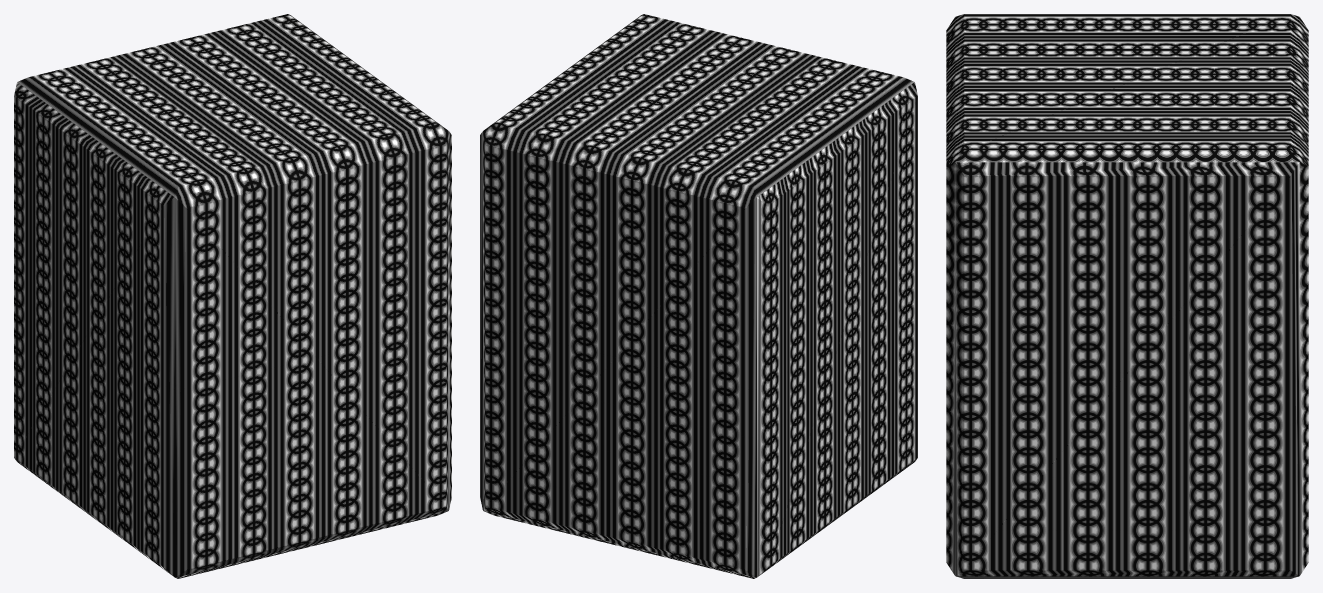
Rendered from Platform1Room2Tutorial2.FBX.
The picture shows the model from 3 angles, left to right: view 1: azimuth 30°, elevation 25°; view 2: azimuth 150°, elevation 25°; view 3: azimuth 270°, elevation 25°; orthographic projection. The views are drawn at different scales.
Visible parts, largest first — view 1: Platform1Room2Tutorial2; view 2: Platform1Room2Tutorial2; view 3: Platform1Room2Tutorial2.
Part boxes in pixels (bbox=[...]): Platform1Room2Tutorial2: bbox=[14, 14, 451, 578]; Platform1Room2Tutorial2: bbox=[480, 14, 917, 578]; Platform1Room2Tutorial2: bbox=[946, 14, 1308, 578].
Size of the model in its own units: 157 by 205 by 157.
